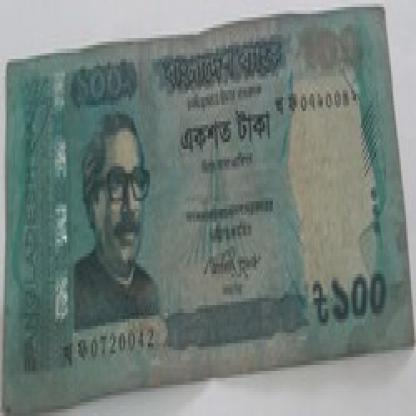one hundred taka: (328, 260, 398, 329), (301, 21, 361, 80), (72, 62, 133, 104)
